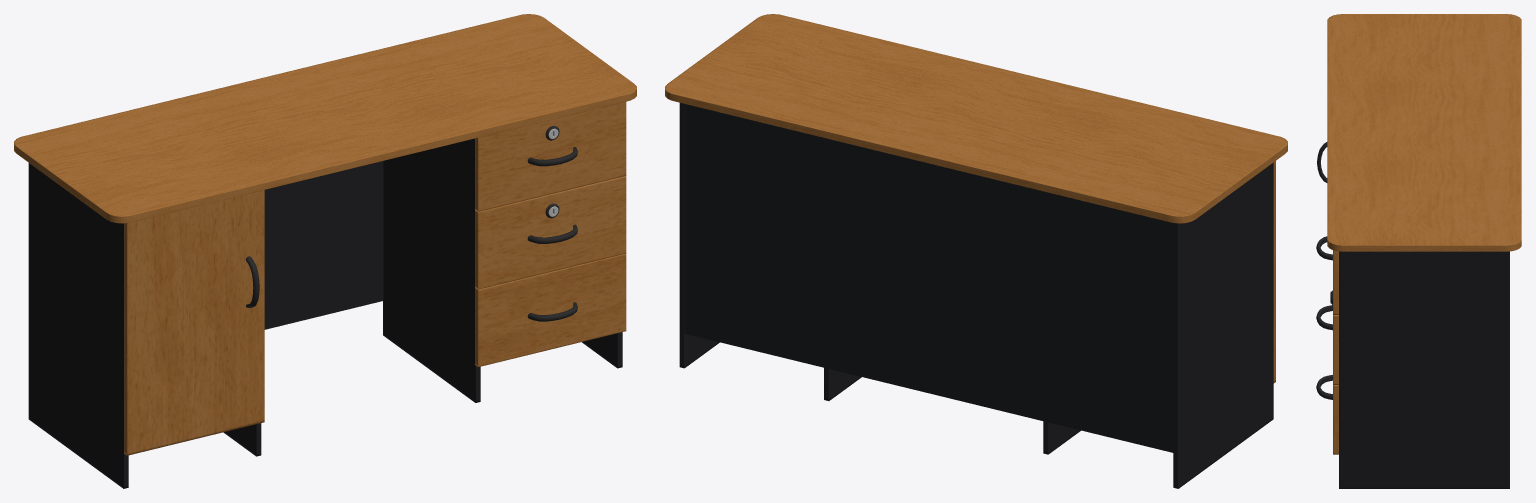
File: meja.glb
3 views of the same model, side by side, from view 1: azimuth 30°, elevation 25°; view 2: azimuth 150°, elevation 25°; view 3: azimuth 270°, elevation 25° (orthographic). The views are drawn at different scales.
Parts seen in each view (by area): view 1: connect, table, Drawer3, Drawer1, Drawer2, Drawer; view 2: connect, table, Drawer3; view 3: table, connect, Drawer1, Drawer2, Drawer.
Boxes of the visible parts, x1,y1,x2,y2 form: connect: (28, 138, 622, 488); table: (14, 14, 636, 223); Drawer3: (124, 190, 264, 455); Drawer1: (475, 176, 626, 289); Drawer2: (475, 253, 626, 367); Drawer: (475, 101, 626, 211); connect: (679, 103, 1273, 488); table: (665, 14, 1287, 223); Drawer3: (1273, 161, 1275, 383); table: (1327, 14, 1521, 251); connect: (1339, 251, 1509, 488); Drawer1: (1316, 290, 1338, 384); Drawer2: (1316, 375, 1338, 454); Drawer: (1316, 236, 1338, 314).
Bounding box in the file's own units: 1.81 × 0.9124 × 0.6807.
6 materials, 3 textured.
